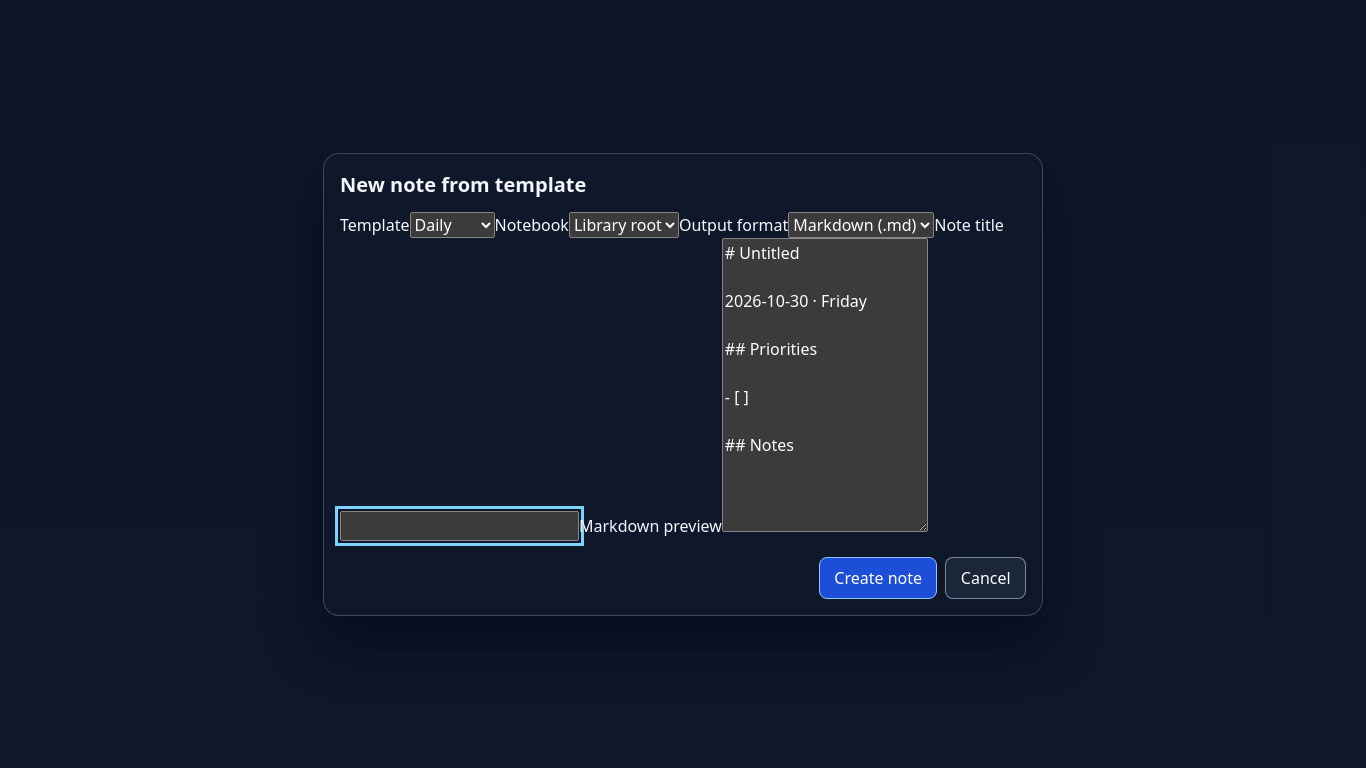
Test: new note from template dialog › rejects invalid titles and displays host filesystem errors without closing
The width and height of the screenshot is (1366, 768).
Step 1. Type "../escape" into the field labelled "Note title" → {"x": 460, "y": 526}, box [340,510,579,540]
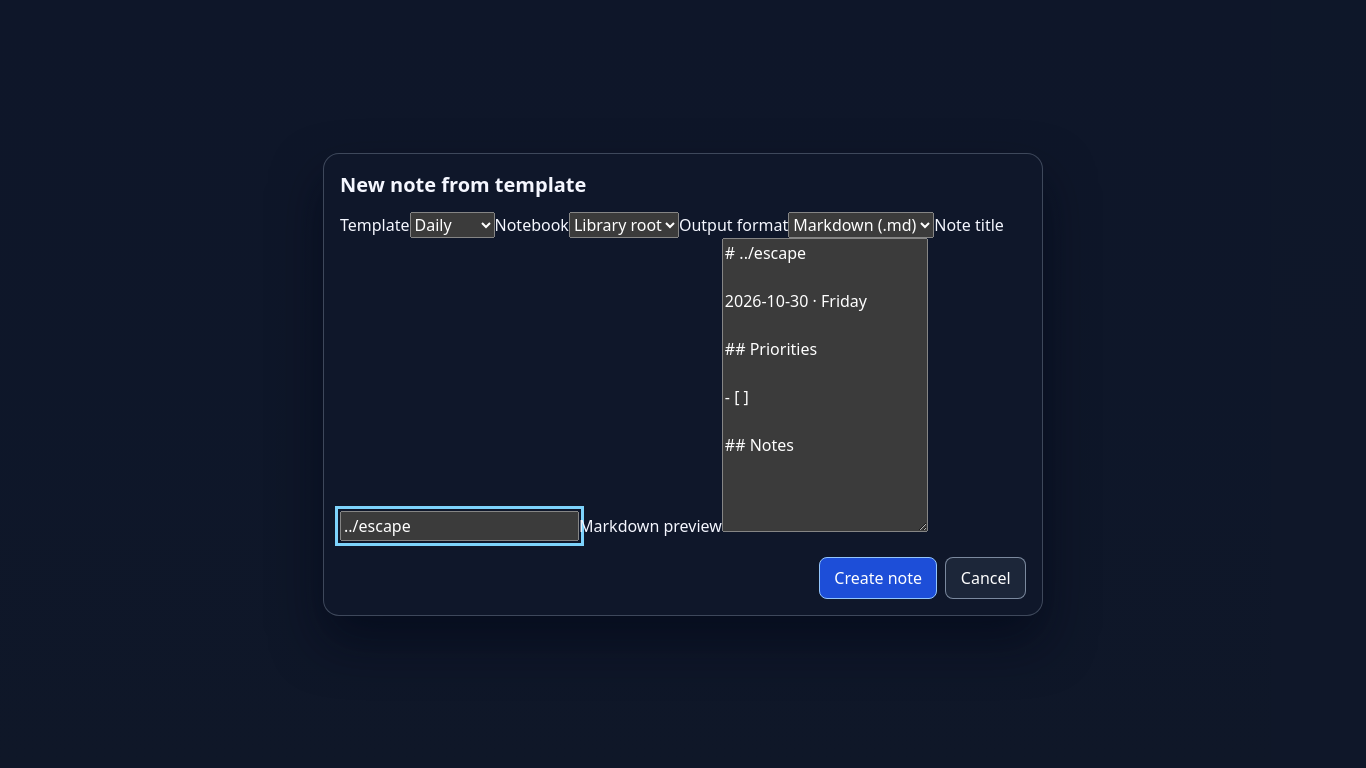
Step 2. Click the button "Create note" → {"x": 878, "y": 578}, box [819,556,937,598]
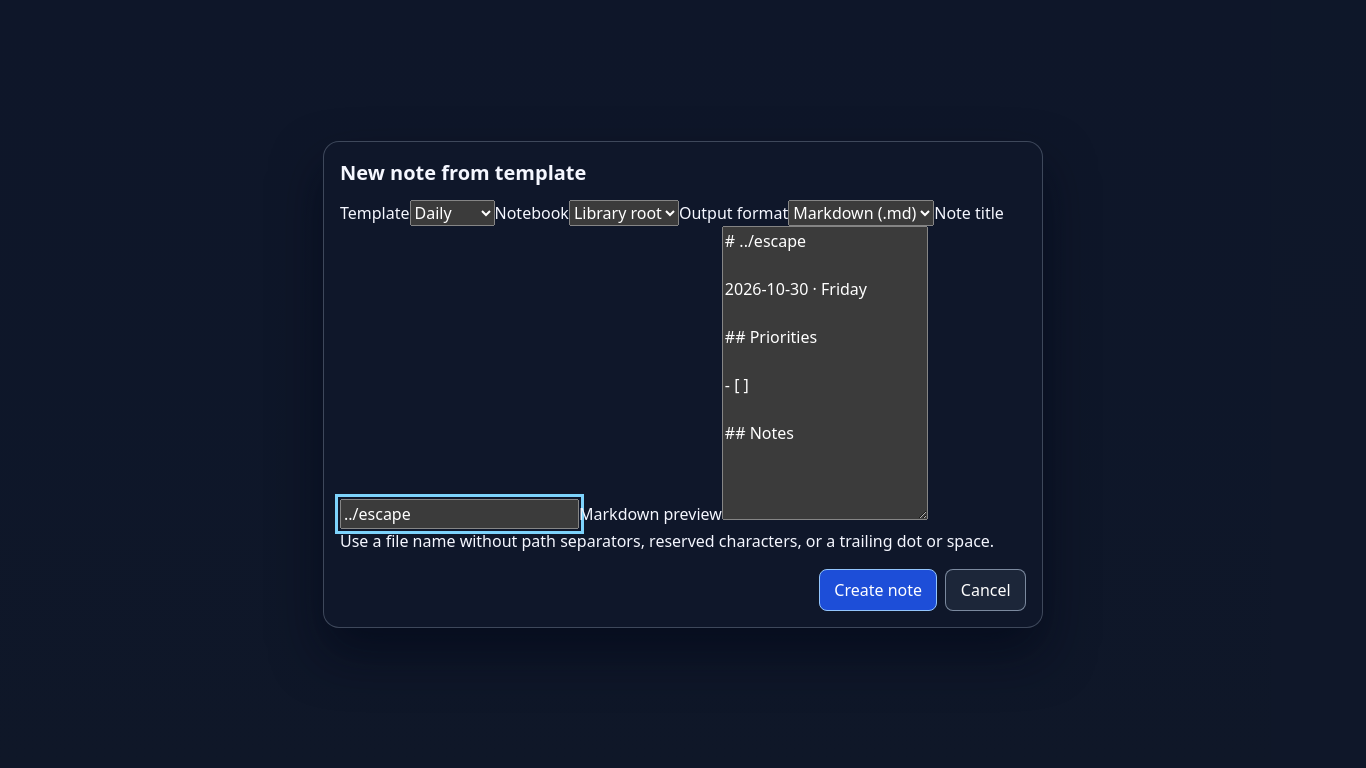
Expected: the message shows "path separators", [340,530,994,552]
Step 3. Replace the text in the field labelled "Note title" with "Valid.md" → {"x": 460, "y": 514}, box [340,498,579,528]
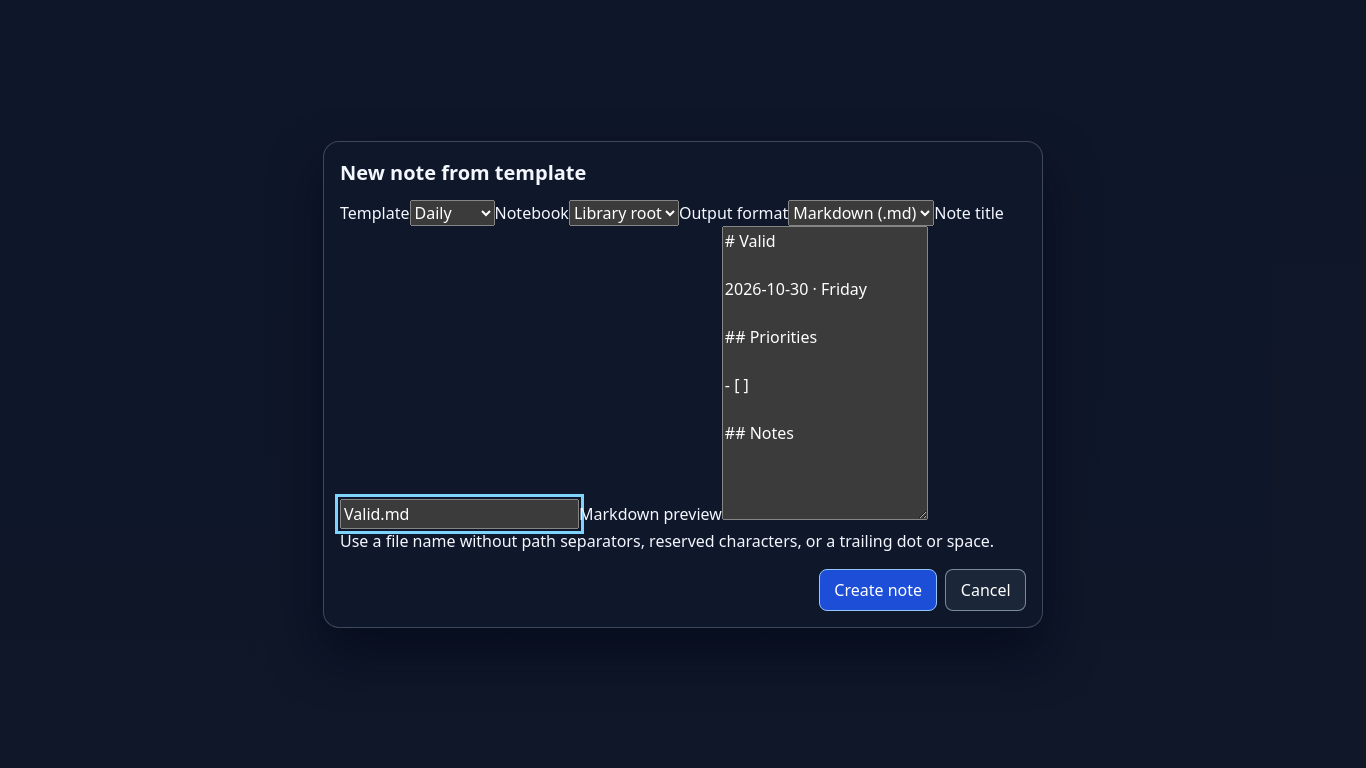
Step 4. Click the button "Create note" → {"x": 878, "y": 590}, box [819,568,937,610]
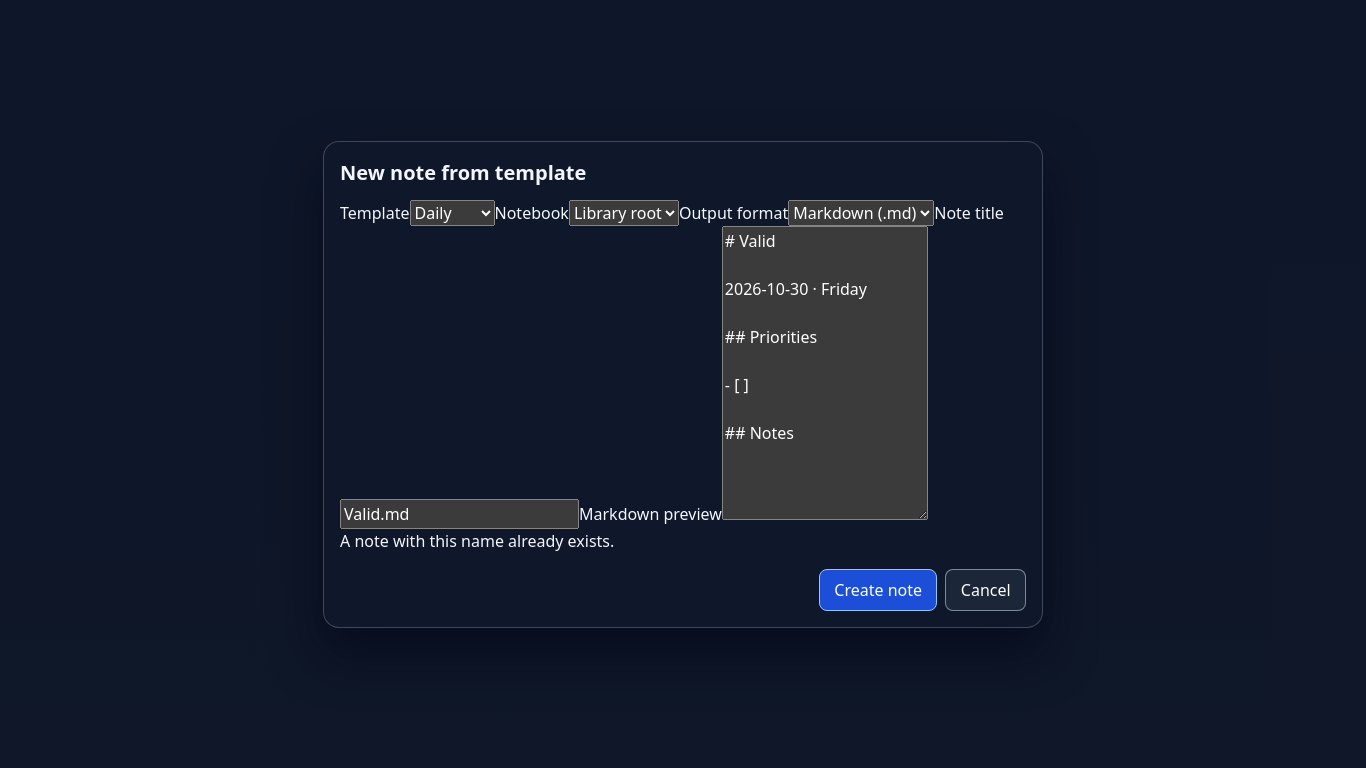
Expected: the message shows "already exists", [340,530,614,552]
